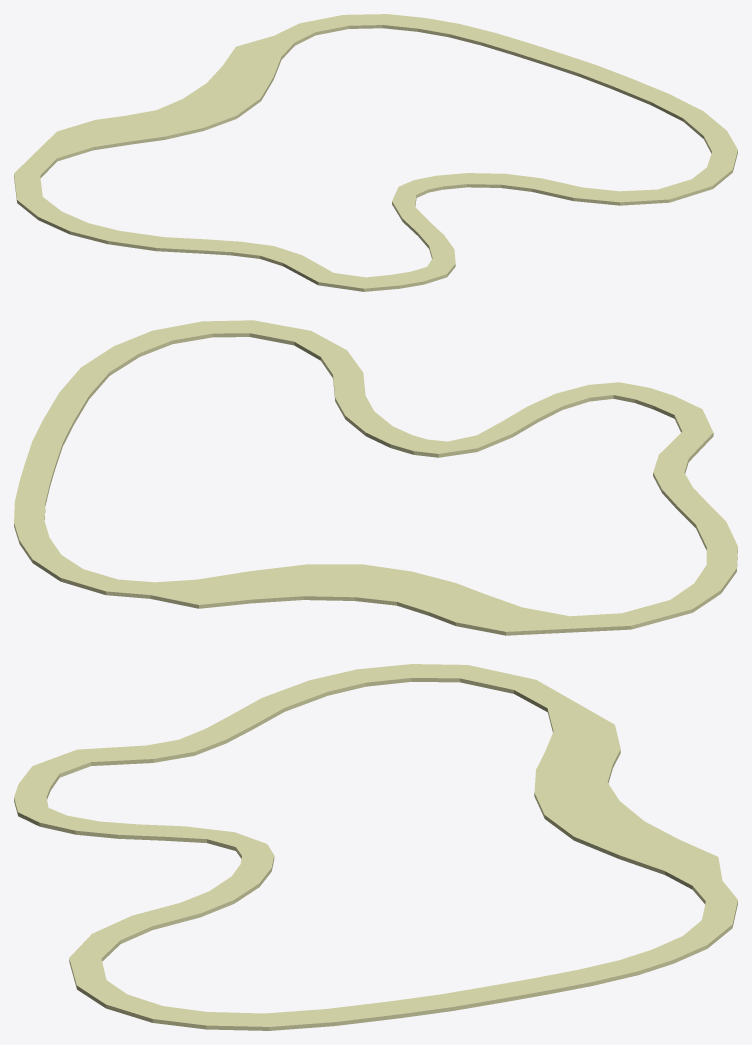
File: street.glb
The picture shows the model from 3 angles, top to bottom: view 1: azimuth 30°, elevation 25°; view 2: azimuth 150°, elevation 25°; view 3: azimuth 270°, elevation 25°; orthographic projection. The views are drawn at different scales.
Visible parts, largest first — view 1: Plane; view 2: Plane; view 3: Plane.
Boxes of the visible parts, x1,y1,x2,y2 form: Plane: [14, 14, 737, 291]; Plane: [14, 320, 737, 635]; Plane: [14, 664, 737, 1030].
Bounding box in the file's own units: 24.21 × 0.1243 × 20.41.
